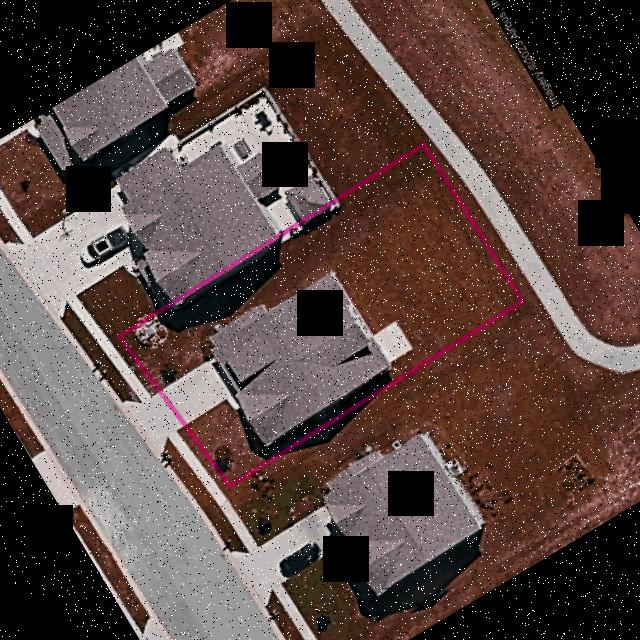Driveway: (164, 359, 238, 423)
Extra Driveway: (122, 395, 179, 455)
Extra Lawn: (163, 442, 212, 504), (179, 429, 228, 489), (111, 339, 155, 395), (90, 350, 136, 402)
Extra Sidewalk: (169, 433, 222, 497), (101, 343, 150, 401)
House: (210, 272, 411, 458)
Other: (134, 317, 166, 349)
